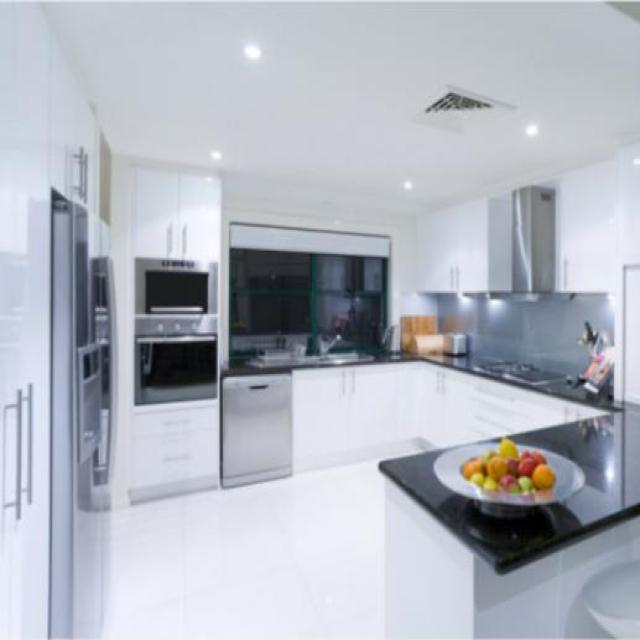dishwasher: (220, 370, 291, 488)
